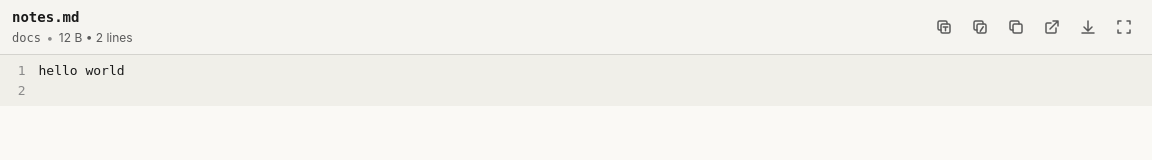
Test: FileViewer › offers independent actions for copying the title and full text
This screenshot has width=1152, height=160.
Click the button named "Copy title". click: click(944, 27)
box: x1=928 y1=11 x2=960 y2=43
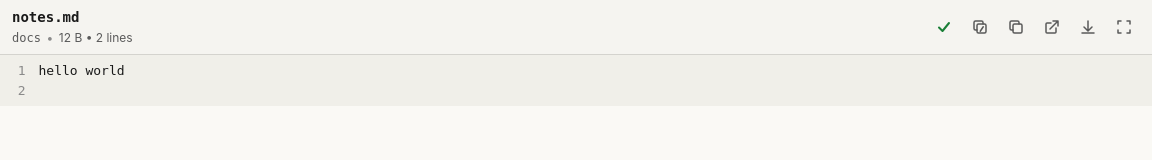
Check: the button named "Title copied!" is shown, box x1=928 y1=11 x2=960 y2=43
Click the button named "Copy full path". click: click(980, 27)
box: x1=964 y1=11 x2=996 y2=43
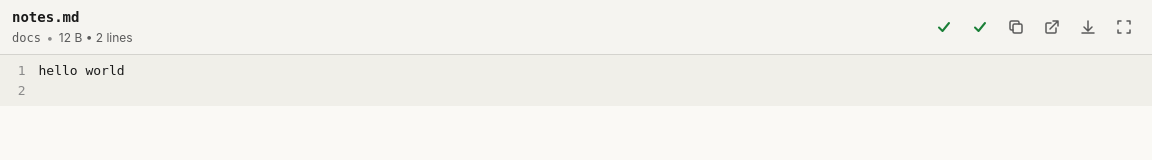
Check: the button named "Full path copied!" is shown, box x1=964 y1=11 x2=996 y2=43
Click the button named "Copy full text". click: click(1016, 27)
box: x1=1000 y1=11 x2=1032 y2=43
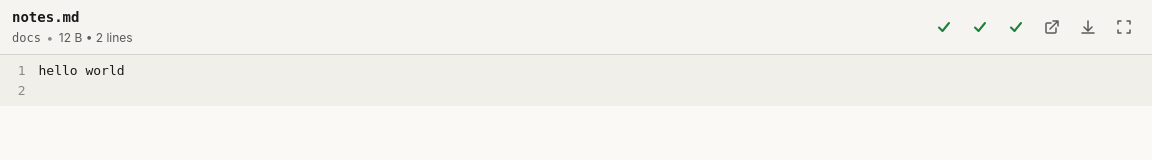
Check: the button named "Title copied!" is shown, box x1=928 y1=11 x2=960 y2=43
Check: the button named "Full path copied!" is shown, box x1=964 y1=11 x2=996 y2=43
Check: the button named "Full text copied!" is shown, box x1=1000 y1=11 x2=1032 y2=43
